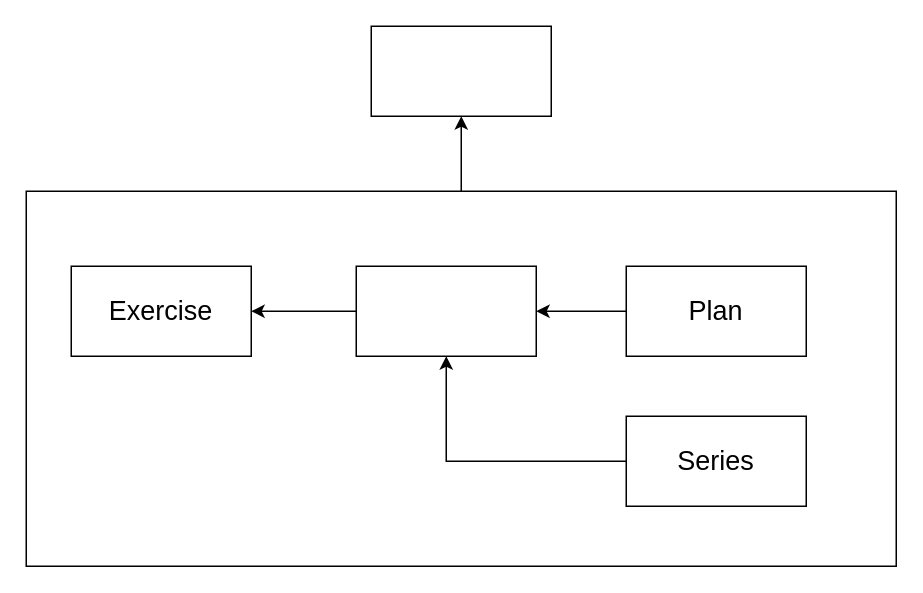
Some shapes in this 923 by 593 pixel diagram are drawn without their labels. The shapes that lost their labels are listed below. From the top down, each one's box as (x1, y1, x2, y2) in pixels, then its label:
(370, 25, 551, 116): Exercise Factory
(355, 265, 536, 356): ExerciseUI
